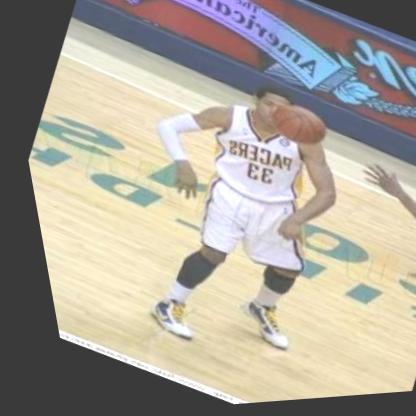basketball: (258, 96, 332, 159)
